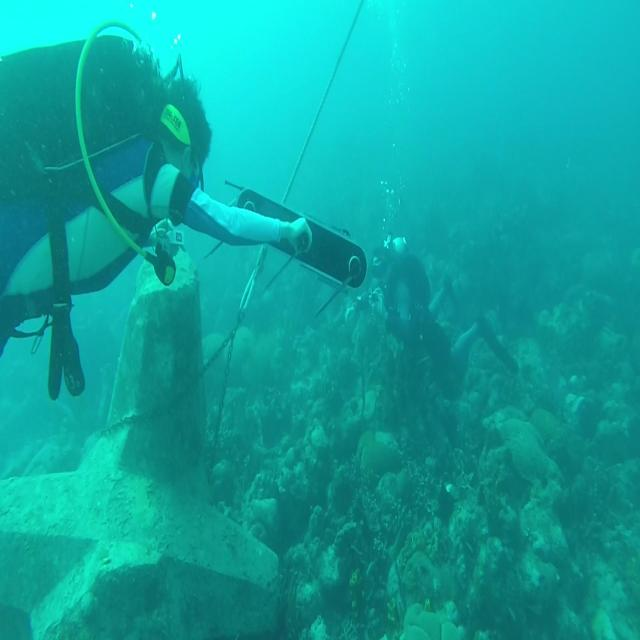human: (0, 20, 313, 400), (369, 234, 520, 404)
